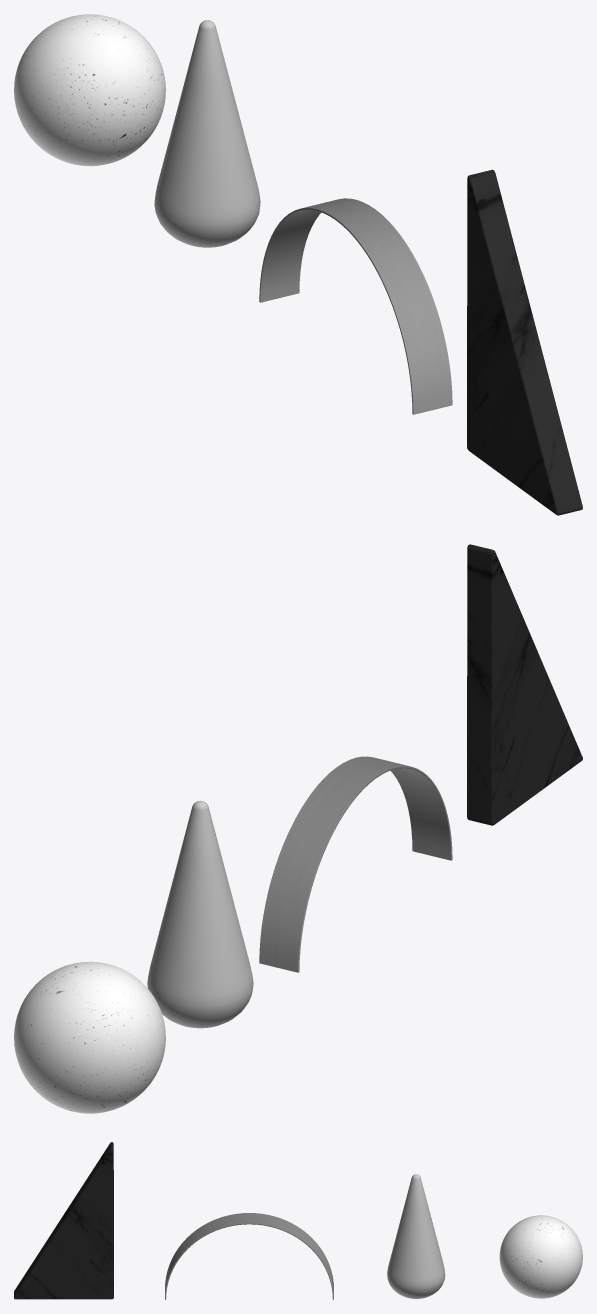
File: uploads_files_3277946_geometric+figure+set.fbx
3 views of the same model, one above another, from view 1: azimuth 30°, elevation 25°; view 2: azimuth 150°, elevation 25°; view 3: azimuth 270°, elevation 25° (orthographic). The views are drawn at different scales.
Parts seen in each view (by area): view 1: Square bookend Marble by Kristina Dam, Round paperweight Terracotta by Kristina Dam, Oak cone by Kristina Dam, Arc Brass by Kristina Dam; view 2: Square bookend Marble by Kristina Dam, Round paperweight Terracotta by Kristina Dam, Oak cone by Kristina Dam, Arc Brass by Kristina Dam; view 3: Square bookend Marble by Kristina Dam, Round paperweight Terracotta by Kristina Dam, Oak cone by Kristina Dam, Arc Brass by Kristina Dam.
Boxes of the visible parts, x1=… form: Square bookend Marble by Kristina Dam: x1=467, y1=169, x2=582, y2=515; Round paperweight Terracotta by Kristina Dam: x1=14, y1=14, x2=165, y2=166; Oak cone by Kristina Dam: x1=154, y1=20, x2=260, y2=247; Arc Brass by Kristina Dam: x1=259, y1=198, x2=452, y2=414; Square bookend Marble by Kristina Dam: x1=467, y1=544, x2=582, y2=825; Round paperweight Terracotta by Kristina Dam: x1=14, y1=961, x2=165, y2=1113; Oak cone by Kristina Dam: x1=147, y1=800, x2=253, y2=1028; Arc Brass by Kristina Dam: x1=259, y1=756, x2=452, y2=972; Square bookend Marble by Kristina Dam: x1=14, y1=1142, x2=113, y2=1299; Round paperweight Terracotta by Kristina Dam: x1=499, y1=1215, x2=582, y2=1298; Oak cone by Kristina Dam: x1=387, y1=1174, x2=445, y2=1298; Arc Brass by Kristina Dam: x1=165, y1=1213, x2=333, y2=1299.
Size of the model in its own units: 10 by 68.24 by 20.
